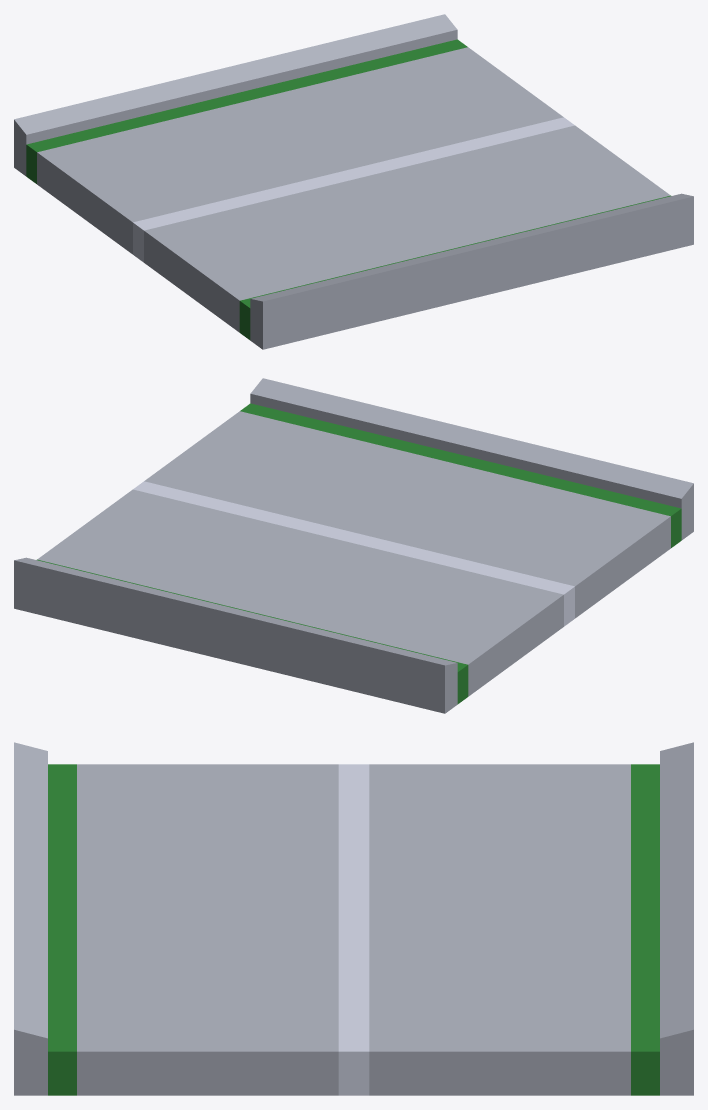
The model's file is basic_road.glb.
The picture shows the model from 3 angles, top to bottom: view 1: azimuth 30°, elevation 25°; view 2: azimuth 150°, elevation 25°; view 3: azimuth 270°, elevation 25°; orthographic projection. The views are drawn at different scales.
Parts seen in each view (by area): view 1: road; view 2: road; view 3: road.
Part boxes in pixels (x1=…): road: x1=14, y1=14, x2=693, y2=349; road: x1=14, y1=378, x2=693, y2=713; road: x1=14, y1=742, x2=693, y2=1095.
Bounding box in the file's own units: 14 × 1.5 × 14.
